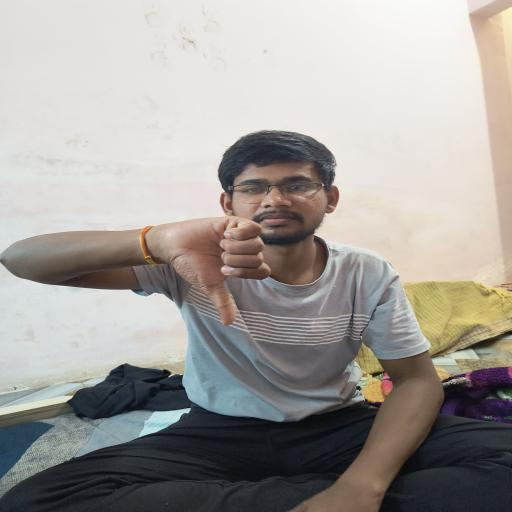Continue: (134, 201, 298, 339)
